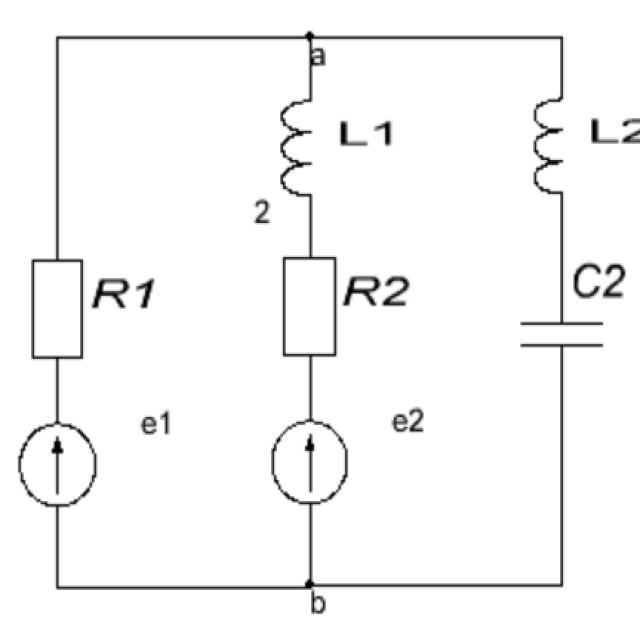ind: (277, 93, 323, 203), (532, 91, 572, 200)
net: (48, 26, 66, 272), (557, 336, 568, 593), (556, 182, 570, 331), (50, 495, 68, 598), (49, 351, 64, 434), (555, 29, 570, 108), (304, 187, 318, 264), (305, 346, 317, 427)
net_node: (50, 27, 573, 50), (54, 572, 573, 594), (304, 498, 323, 595), (302, 22, 322, 106)
res: (278, 249, 342, 362), (27, 257, 92, 365)
source: (12, 417, 102, 509), (267, 415, 352, 511)
